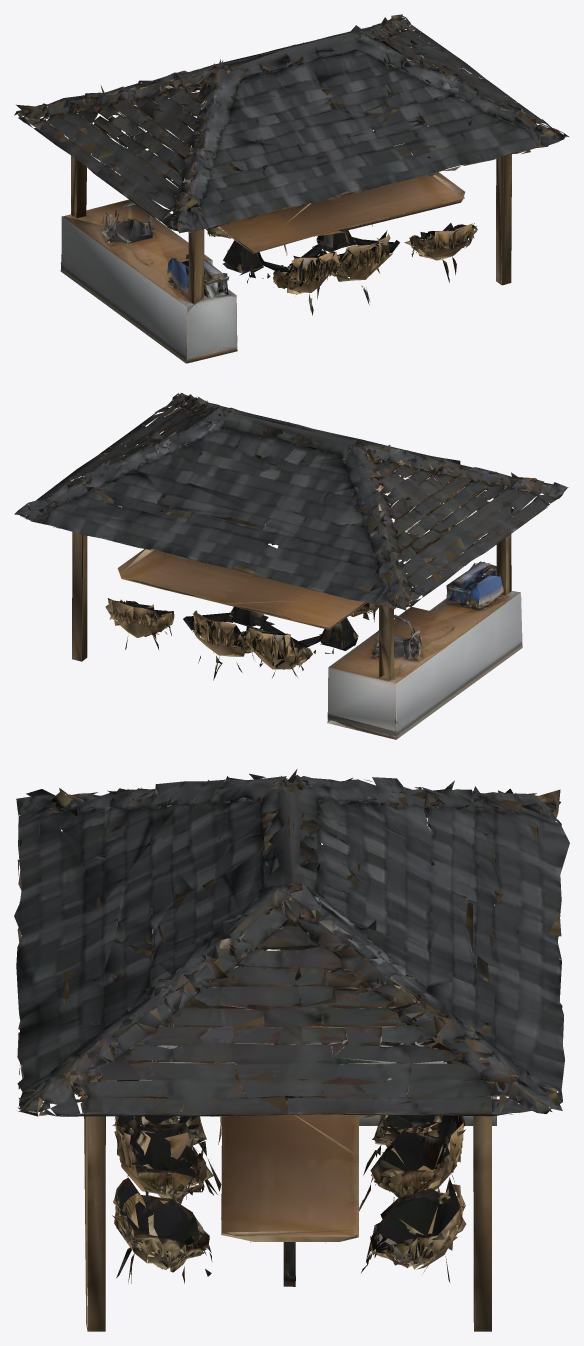
Rendered from Tiki_Pavilion_town.glb.
3 renders of one model, top to bottom at view 1: azimuth 30°, elevation 25°; view 2: azimuth 150°, elevation 25°; view 3: azimuth 270°, elevation 25°, orthographic. The views are drawn at different scales.
Parts seen in each view (by area): view 1: Tiki_Pavilion; view 2: Tiki_Pavilion; view 3: Tiki_Pavilion.
Part boxes in pixels (bbox=[...]): Tiki_Pavilion: bbox=[14, 14, 568, 363]; Tiki_Pavilion: bbox=[14, 393, 568, 739]; Tiki_Pavilion: bbox=[14, 769, 569, 1331].
Bounding box in the file's own units: 1.91 × 1.09 × 1.42.
1 material, 1 textured.
